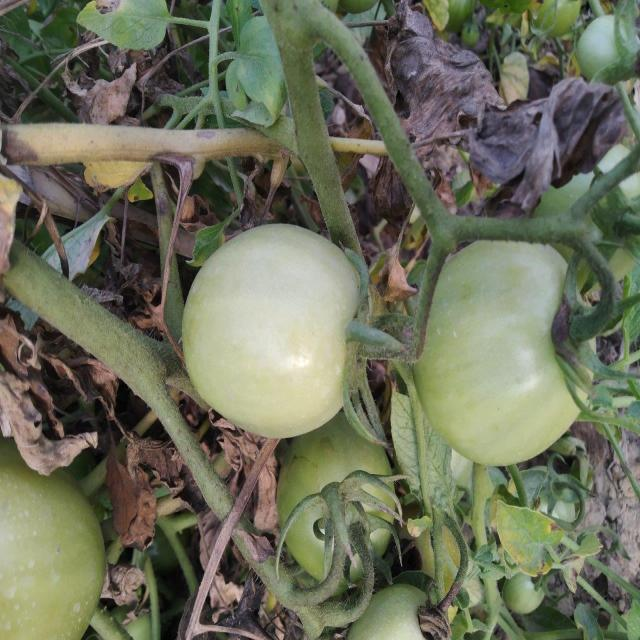Unripe: (418, 234, 597, 465), (184, 219, 373, 437)
